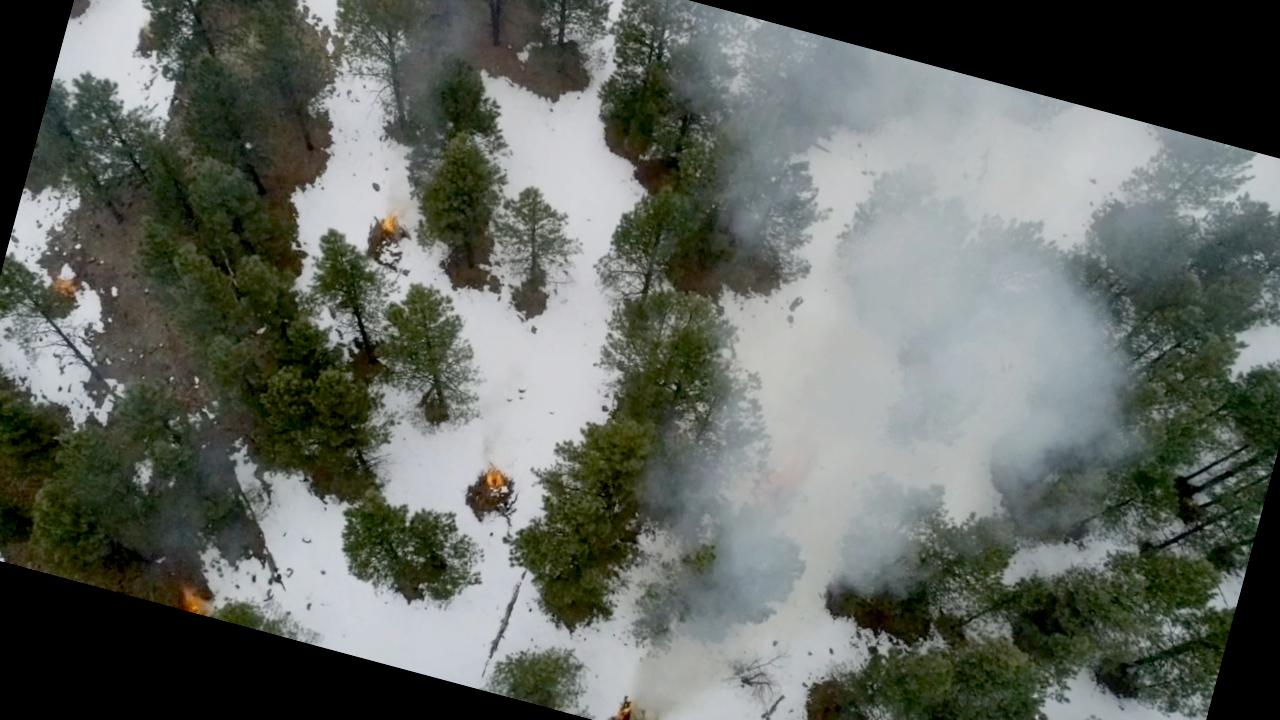fire: (475, 456, 514, 497), (609, 698, 671, 720), (373, 204, 408, 235), (178, 582, 210, 614)
smoke: (613, 0, 1280, 429), (621, 283, 1111, 660)
